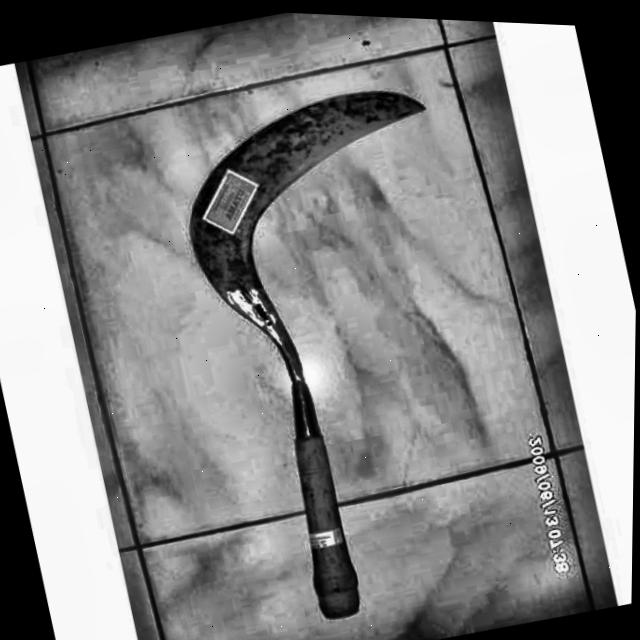celurit: (188, 80, 440, 633)
